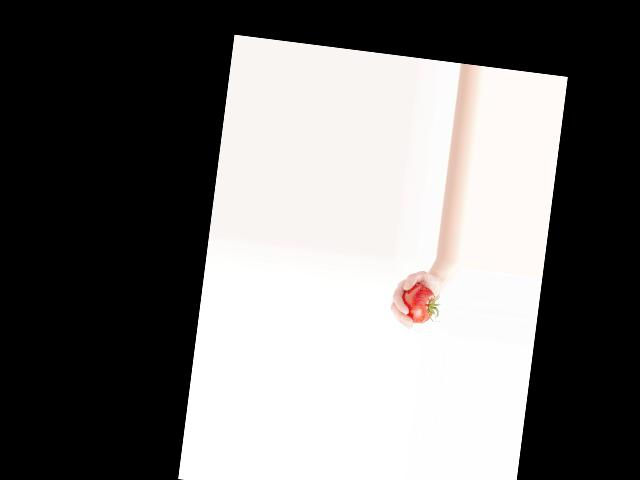tomato: (399, 283, 437, 325)
